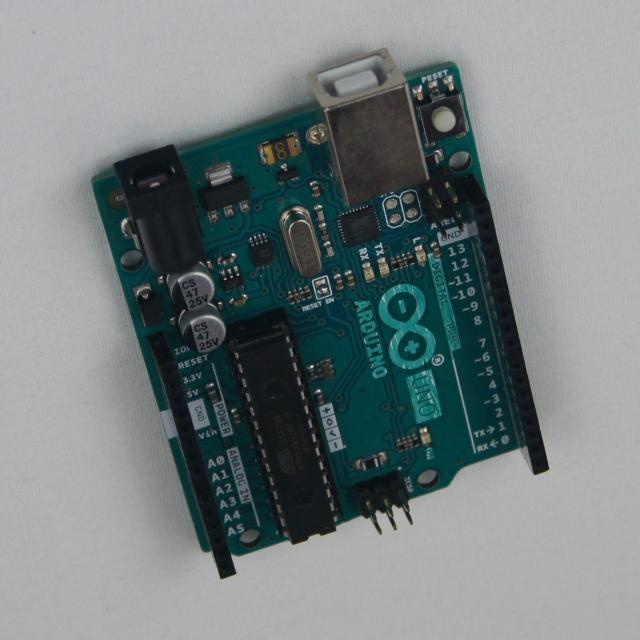Arduino Uno -Green-: (94, 50, 549, 579)
